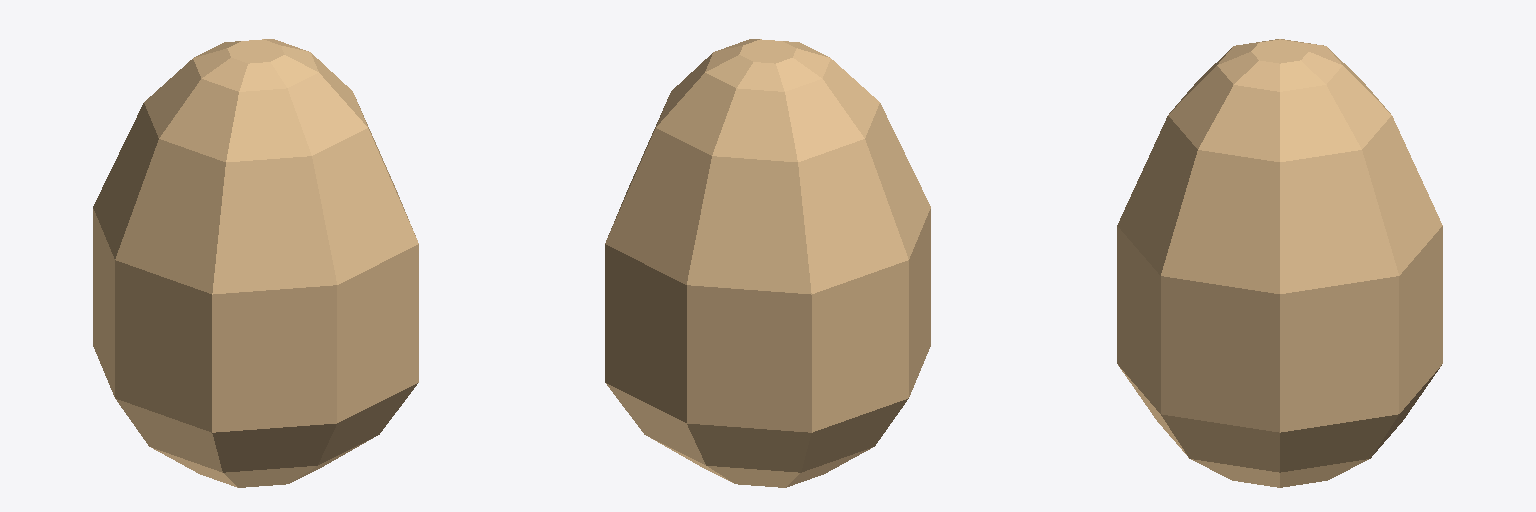
The picture shows the model from 3 angles: view 1: azimuth 30°, elevation 25°; view 2: azimuth 150°, elevation 25°; view 3: azimuth 270°, elevation 25°; orthographic projection.
Parts seen in each view (by area): view 1: Cube.001_Cube.000; view 2: Cube.001_Cube.000; view 3: Cube.001_Cube.000.
Part boxes in pixels (x1,y1,x2,y2): Cube.001_Cube.000: (93, 39, 418, 487); Cube.001_Cube.000: (605, 39, 930, 487); Cube.001_Cube.000: (1117, 39, 1442, 487).
Size of the model in its own units: 0.4732 by 0.6557 by 0.4732.
1 materials, 1 textured.